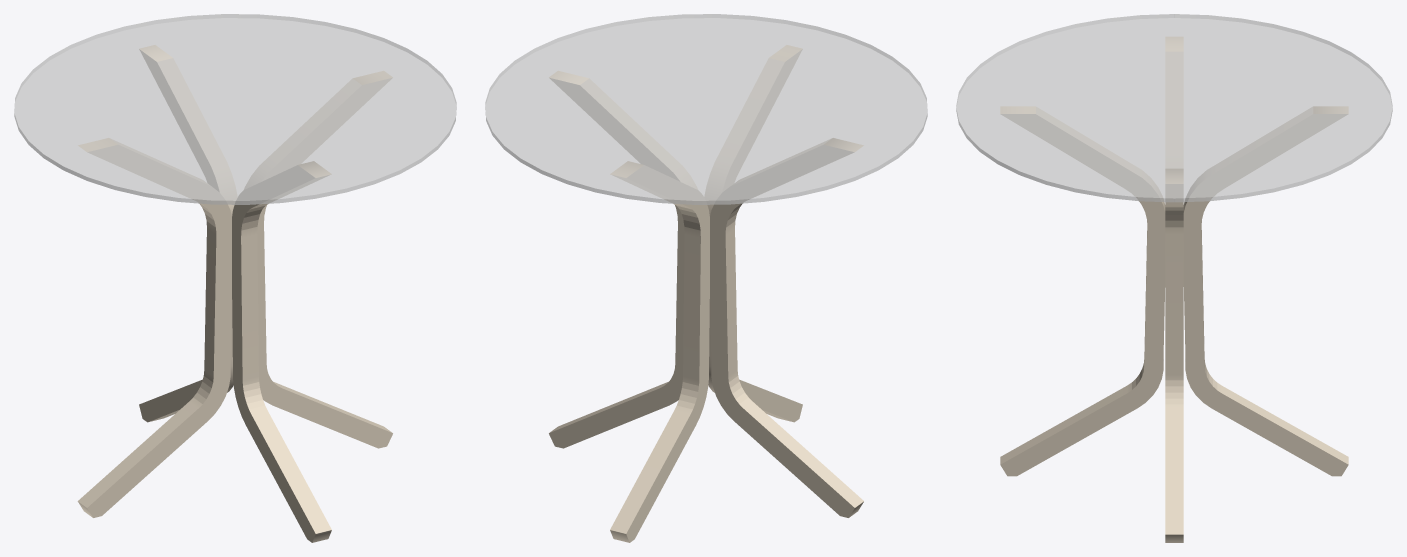
File: HMI_She_Said_Table_3D.fbx
The picture shows the model from 3 angles, left to right: view 1: azimuth 30°, elevation 25°; view 2: azimuth 150°, elevation 25°; view 3: azimuth 270°, elevation 25°; orthographic projection.
Visible parts, largest first — view 1: polySurface159; view 2: polySurface159; view 3: polySurface159.
Boxes of the visible parts, box(x1,y1,x2,y2) form: polySurface159: box(14, 14, 456, 542); polySurface159: box(485, 14, 927, 542); polySurface159: box(956, 14, 1392, 542).
Bounding box in the file's own units: 31.5 × 29.13 × 31.5.
